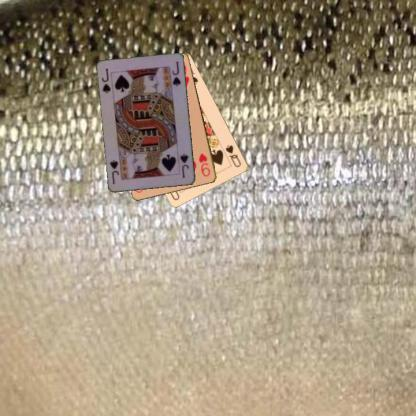9h: (196, 150, 212, 178)
Js: (99, 66, 112, 94), (178, 151, 190, 179)
Qs: (223, 142, 243, 169)
